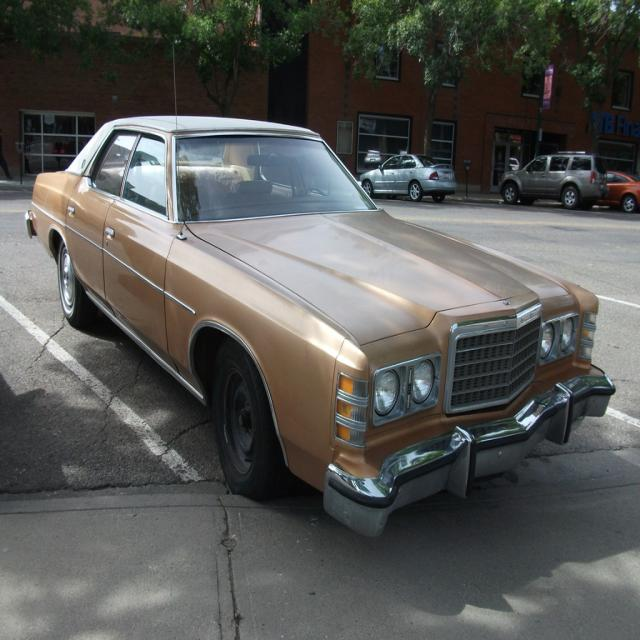car: (23, 42, 614, 535), (496, 149, 606, 206), (360, 146, 452, 199)
